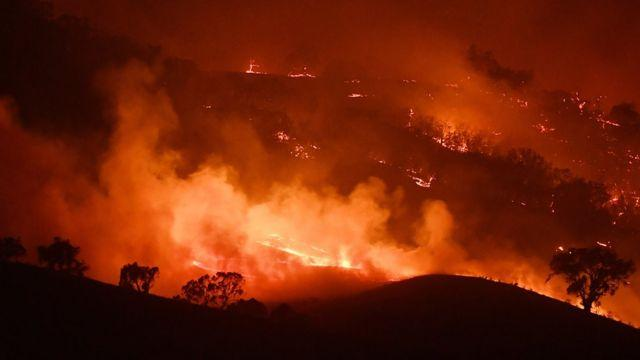fire: (240, 101, 640, 336), (233, 22, 640, 146)
